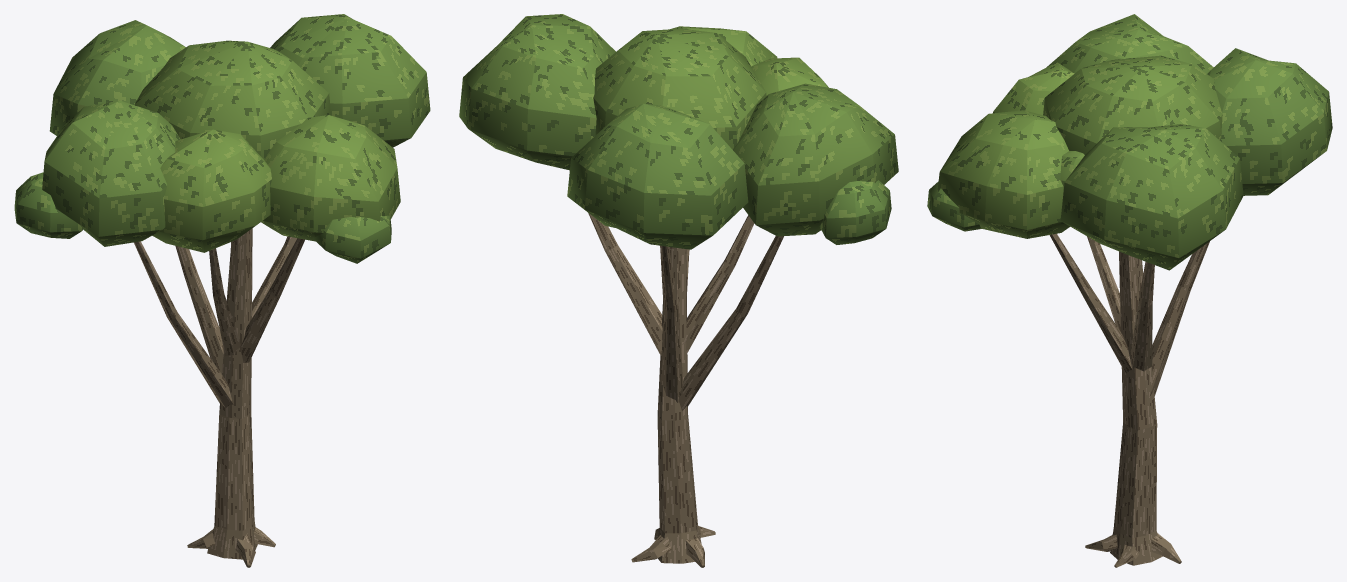
Rendered from t_tree_elm.glb.
The picture shows the model from 3 angles, left to right: view 1: azimuth 30°, elevation 25°; view 2: azimuth 150°, elevation 25°; view 3: azimuth 270°, elevation 25°; orthographic projection. The views are drawn at different scales.
Parts seen in each view (by area): view 1: t_tree_elm_mesh; view 2: t_tree_elm_mesh; view 3: t_tree_elm_mesh.
Part boxes in pixels (x1=…): t_tree_elm_mesh: x1=14, y1=14, x2=430, y2=567; t_tree_elm_mesh: x1=459, y1=14, x2=898, y2=567; t_tree_elm_mesh: x1=927, y1=14, x2=1332, y2=567.
Bounding box in the file's own units: 3.6 × 4.3 × 3.18.
Materials: 1 (1 with a texture image).
